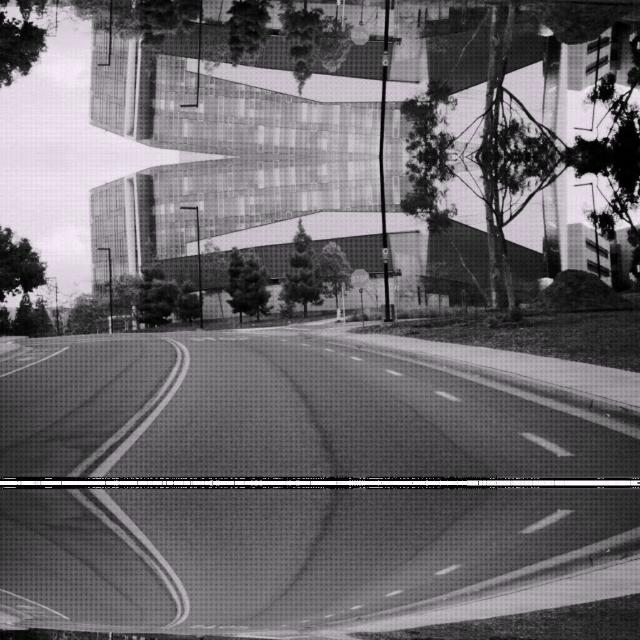stop: (349, 267, 368, 287), (349, 25, 368, 45)
